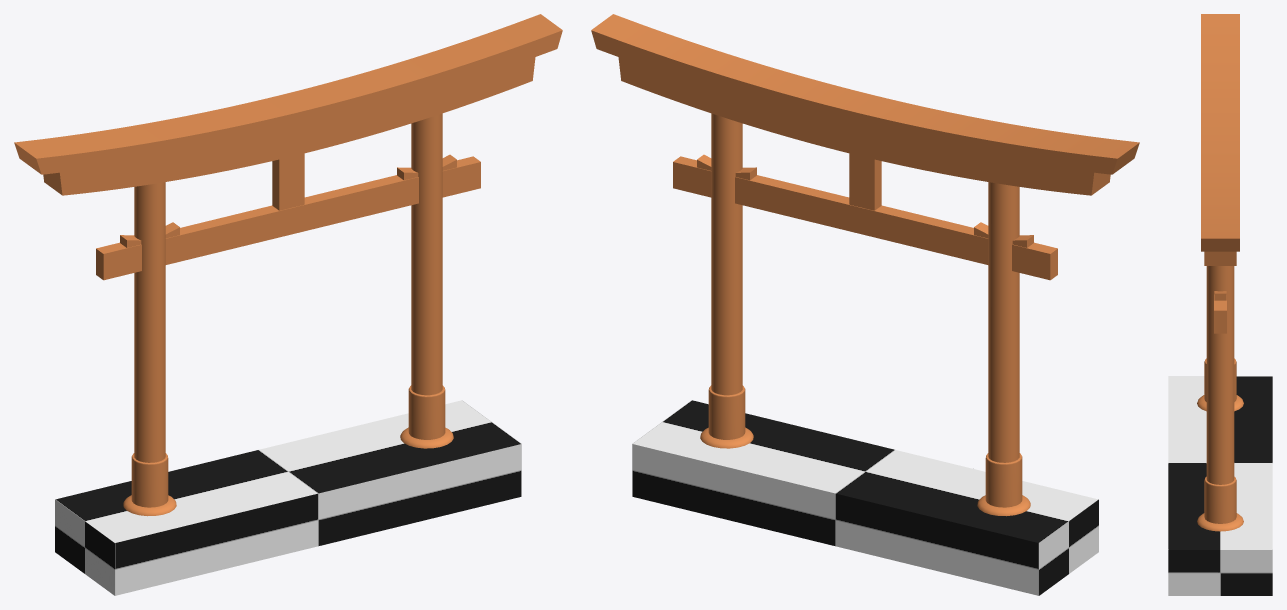
The model's file is finish.fbx.
3 views of the same model, side by side, from view 1: azimuth 30°, elevation 25°; view 2: azimuth 150°, elevation 25°; view 3: azimuth 270°, elevation 25° (orthographic). The views are drawn at different scales.
Parts seen in each view (by area): view 1: Asset3DLoader.sceneRoot, Cube; view 2: Asset3DLoader.sceneRoot, Cube; view 3: Cube, Asset3DLoader.sceneRoot.
Part boxes in pixels (x1,y1,x2,y2): Asset3DLoader.sceneRoot: (14, 14, 562, 516); Cube: (55, 400, 521, 595); Asset3DLoader.sceneRoot: (591, 14, 1139, 516); Cube: (632, 400, 1098, 595); Cube: (1168, 376, 1272, 595); Asset3DLoader.sceneRoot: (1197, 14, 1243, 531).
Bounding box in the file's own units: 1257 × 999 × 247.
2 materials, 1 textured.
